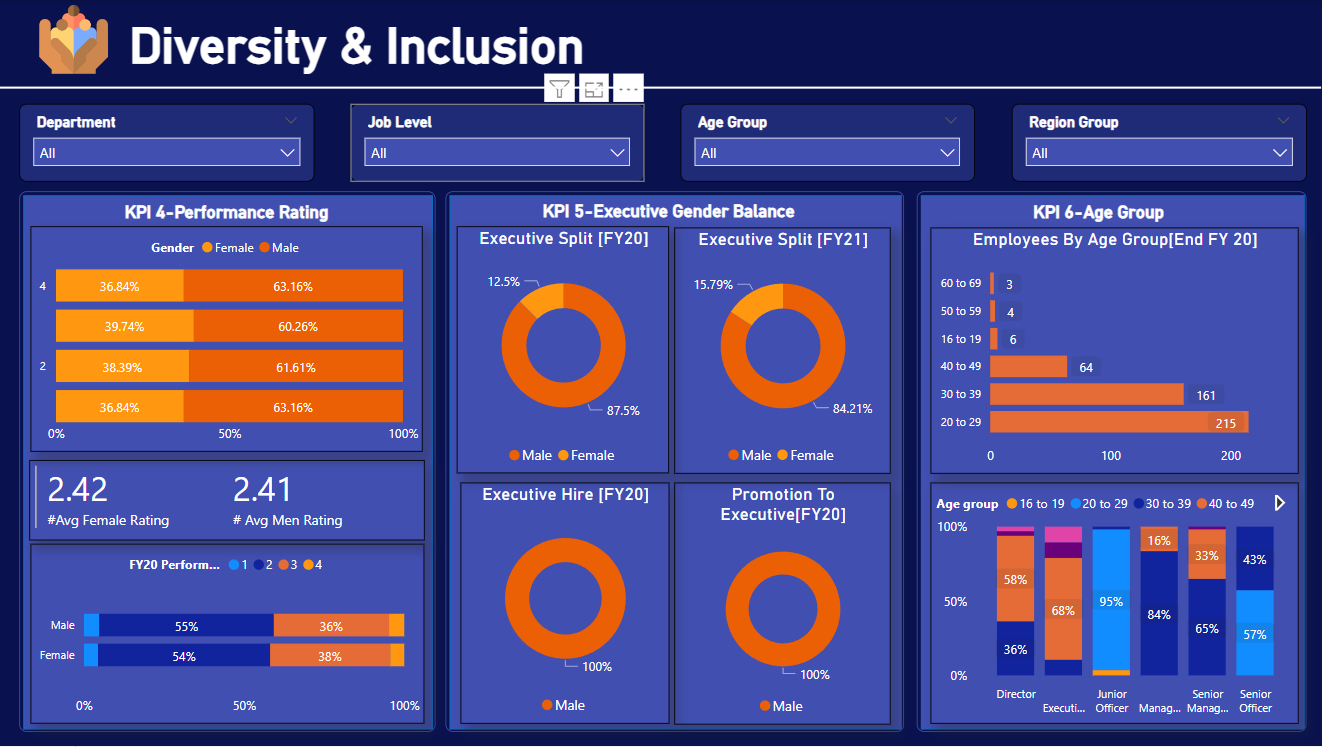

The page's visual inventory and layout, read from the dashboard file:
{"tool":"powerbi","page":{"name":"Page2","canvas":[1280,720],"ordinal":1},"visuals":[{"type":"slicer","fields":{"Values":["Pharma Group AG.Last Department in FY20"]},"box":[20,100,285,75],"z":0},{"type":"slicer","fields":{"Values":["Pharma Group AG.Job Level after FY20 promotions"]},"box":[340,100,283.8,75],"z":1000},{"type":"slicer","fields":{"Values":["Pharma Group AG.Age group"]},"box":[658.8,100,283.8,75],"z":2000},{"type":"slicer","fields":{"Values":["Pharma Group AG.Broad region group: nationality 1","Pharma Group AG.Department & JL group PRA status"]},"box":[977.5,100,285,75],"z":3000},{"type":"shape","box":[20,185,401.2,521.2],"z":4000},{"type":"hundredPercentStackedBarChart","fields":{"Y":["CountNonNull(Pharma Group AG.Job Level after FY20 promotions)"],"Category":["Pharma Group AG.Gender"],"Series":["Pharma Group AG.FY20 Performance Rating"]},"box":[31.2,525,380,173.8],"z":5000},{"type":"textbox","box":[20,188.8,400,31.2],"z":6000},{"type":"shape","box":[431.2,185,442.5,521.2],"z":7000},{"type":"donutChart","title":"Executive Split [FY20]","fields":{"Category":["Pharma Group AG.Gender"],"Y":["CountNonNull(Pharma Group AG.Employee ID)"]},"box":[442.5,218.8,205,238.8],"z":8000},{"type":"textbox","box":[446.6,187.8,401.6,47],"z":9000},{"type":"shape","box":[886.2,185,376.2,521.2],"z":10000},{"type":"hundredPercentStackedBarChart","fields":{"Series":["Pharma Group AG.Gender"],"Y":["CountNonNull(Pharma Group AG.Employee ID)"],"Category":["Pharma Group AG.FY20 Performance Rating"]},"box":[31.2,218.8,378.8,217.5],"z":11000},{"type":"hundredPercentStackedColumnChart","fields":{"Series":["Pharma Group AG.Age group"],"Category":["Pharma Group AG.Job Level after FY21 promotions"],"Y":["CountNonNull(Pharma Group AG.Employee ID)"]},"box":[900,465,355,232.5],"z":12000},{"type":"textbox","box":[860.8,189.1,401.6,47],"z":13000},{"type":"donutChart","title":"Executive Split [FY21]","fields":{"Category":["Pharma Group AG.Gender"],"Y":["CountNonNull(Pharma Group AG.Employee ID)"]},"box":[652.5,220,208.8,237.5],"z":14000},{"type":"donutChart","title":"Executive Hire [FY20]","fields":{"Category":["Pharma Group AG.Gender"],"Y":["CountNonNull(Pharma Group AG.Employee ID)"]},"box":[446.2,465,201.2,232.5],"z":15000},{"type":"donutChart","title":"Promotion To Executive[FY20]","fields":{"Category":["Pharma Group AG.Gender"],"Y":["CountNonNull(Pharma Group AG.Employee ID)"]},"box":[652.5,465,208.8,233.8],"z":16000},{"type":"clusteredBarChart","title":"Employees By Age Group[End FY 20]","fields":{"Category":["Pharma Group AG.Age group"],"Y":["CountNonNull(Pharma Group AG.Employee ID)"]},"box":[900,220,355,237.5],"z":17000},{"type":"shape","box":[0,47.5,1277.5,75],"z":18000},{"type":"textbox","box":[121.2,11.2,641.2,72.5],"z":19000},{"type":"multiRowCard","fields":{"Values":["Pharma Group AG.#Avg Female Rating","Pharma Group AG.# Avg Men Rating"]},"box":[30,443.8,381.2,77.5],"z":20000},{"type":"image","box":[30,0,86.2,76.2],"z":21000}]}

Visuals, with their boxes in screenshot pixels (x1, y1, x2, y2), scaled from the page's 1280x720 canvas onto the 1322x747 screenshot:
slicer - Pharma Group AG.Last Department in FY20: l=21, t=104, r=315, b=182
slicer - Pharma Group AG.Job Level after FY20 promotions: l=351, t=104, r=644, b=182
slicer - Pharma Group AG.Age group: l=680, t=104, r=974, b=182
slicer - Pharma Group AG.Broad region group: nationality 1 x Pharma Group AG.Department & JL group PRA status: l=1010, t=104, r=1304, b=182
shape: l=21, t=192, r=435, b=733
hundredPercentStackedBarChart - CountNonNull(Pharma Group AG.Job Level after FY20 promotions) x Pharma Group AG.Gender: l=32, t=545, r=425, b=725
textbox: l=21, t=196, r=434, b=228
shape: l=445, t=192, r=902, b=733
"Executive Split [FY20]" donutChart: l=457, t=227, r=669, b=475
textbox: l=461, t=195, r=876, b=244
shape: l=915, t=192, r=1304, b=733
hundredPercentStackedBarChart - Pharma Group AG.Gender x CountNonNull(Pharma Group AG.Employee ID): l=32, t=227, r=423, b=453
hundredPercentStackedColumnChart - Pharma Group AG.Age group x Pharma Group AG.Job Level after FY21 promotions: l=930, t=482, r=1296, b=724
textbox: l=889, t=196, r=1304, b=245
"Executive Split [FY21]" donutChart: l=674, t=228, r=890, b=475
"Executive Hire [FY20]" donutChart: l=461, t=482, r=669, b=724
"Promotion To Executive[FY20]" donutChart: l=674, t=482, r=890, b=725
"Employees By Age Group[End FY 20]" clusteredBarChart: l=930, t=228, r=1296, b=475
shape: l=0, t=49, r=1319, b=127
textbox: l=125, t=12, r=787, b=87
multiRowCard - Pharma Group AG.#Avg Female Rating x Pharma Group AG.# Avg Men Rating: l=31, t=460, r=425, b=541
image: l=31, t=0, r=120, b=79
